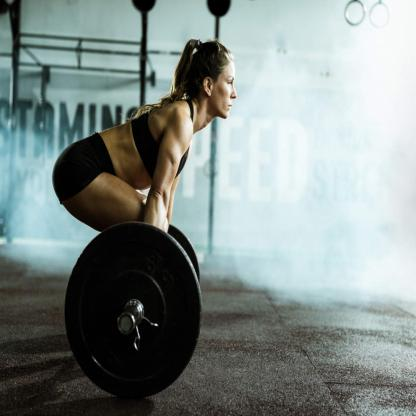Barbell: (60, 218, 209, 402)
